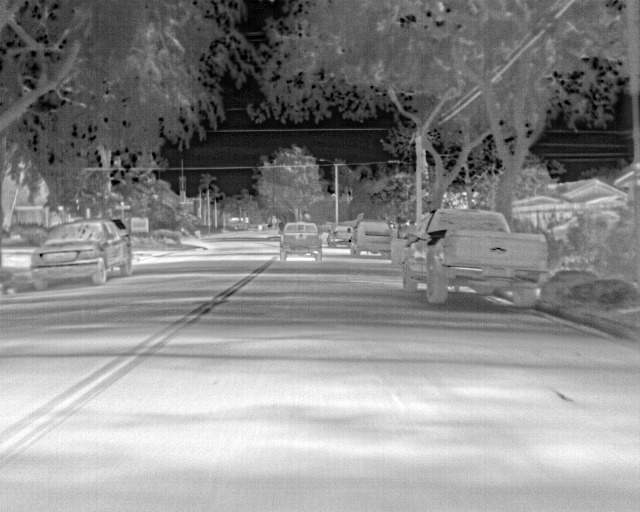vehicle: (401, 208, 547, 301), (30, 217, 133, 288), (351, 219, 397, 257), (279, 220, 321, 257), (325, 224, 355, 248)
